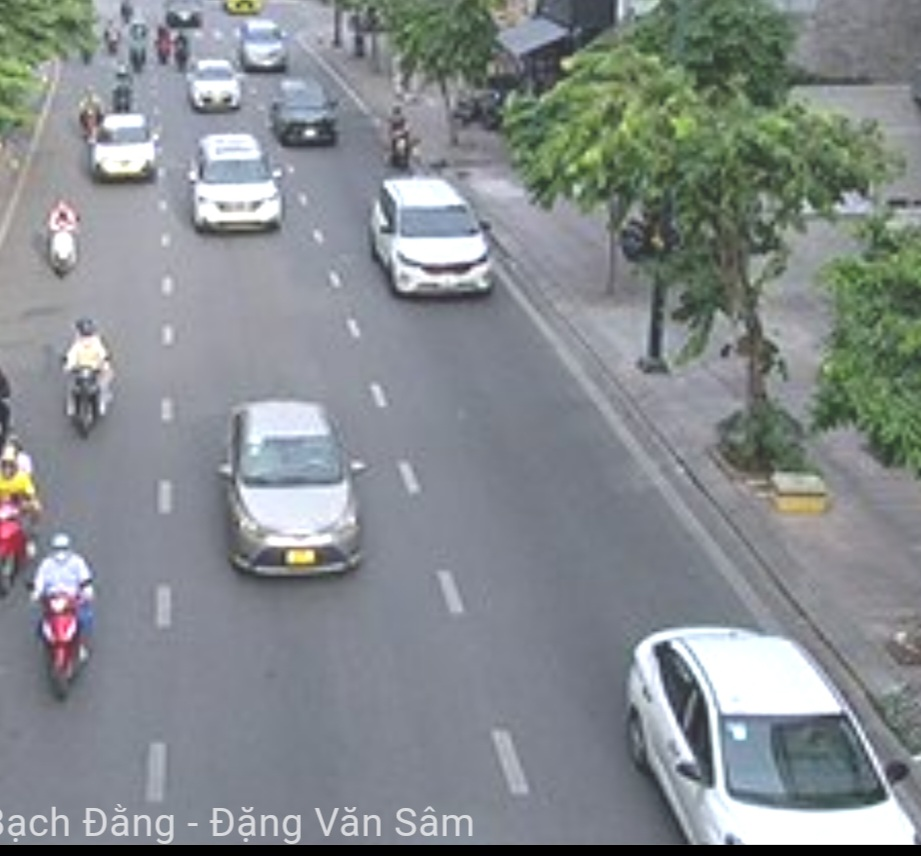car: (625, 614, 911, 844), (222, 401, 365, 591), (369, 178, 497, 298), (189, 135, 285, 234), (272, 79, 343, 152), (94, 110, 159, 181), (183, 56, 243, 112), (240, 17, 290, 72)
